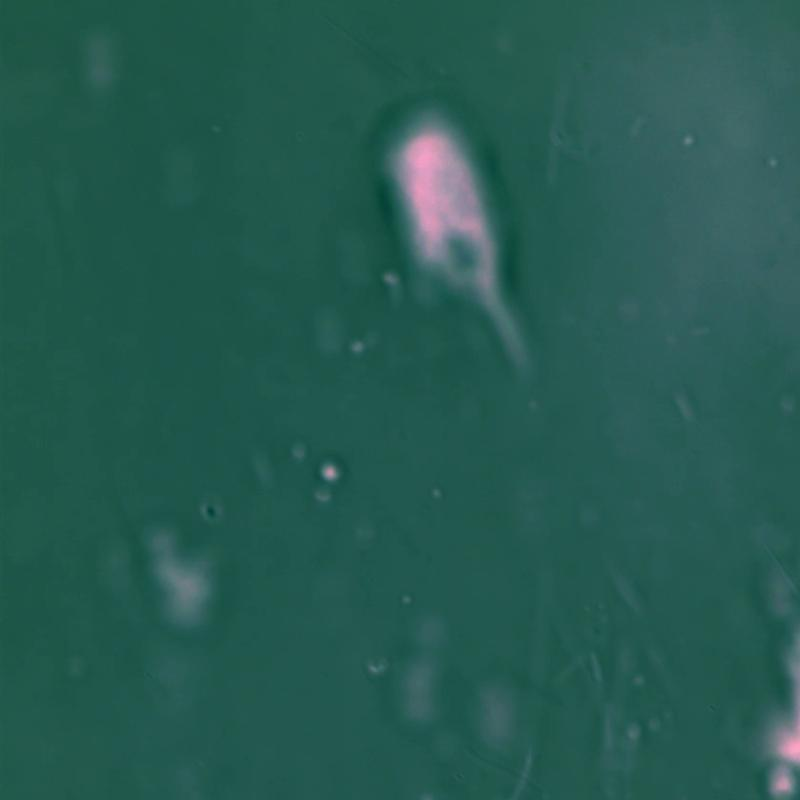depth:100: (346, 79, 571, 402)
